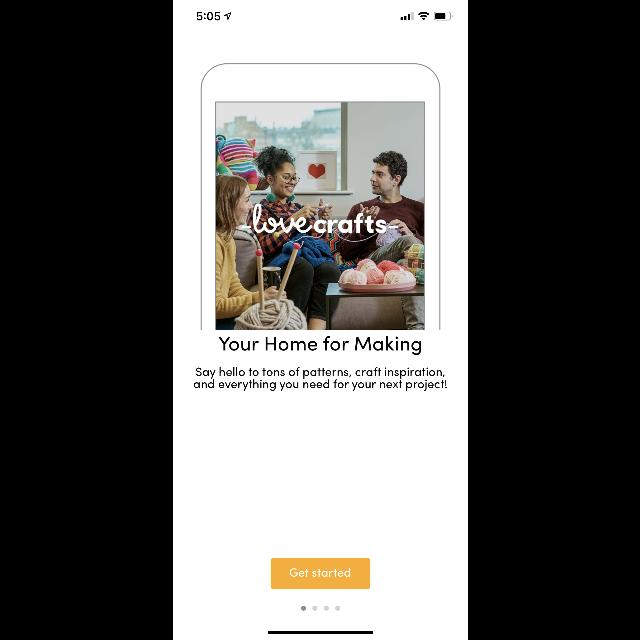image: (200, 63, 440, 330)
pageindicator: (300, 606, 340, 610)
text: (194, 368, 446, 390), (218, 336, 420, 356)
textbutton: (270, 558, 370, 588)
uppertaskbar: (196, 12, 452, 21)
